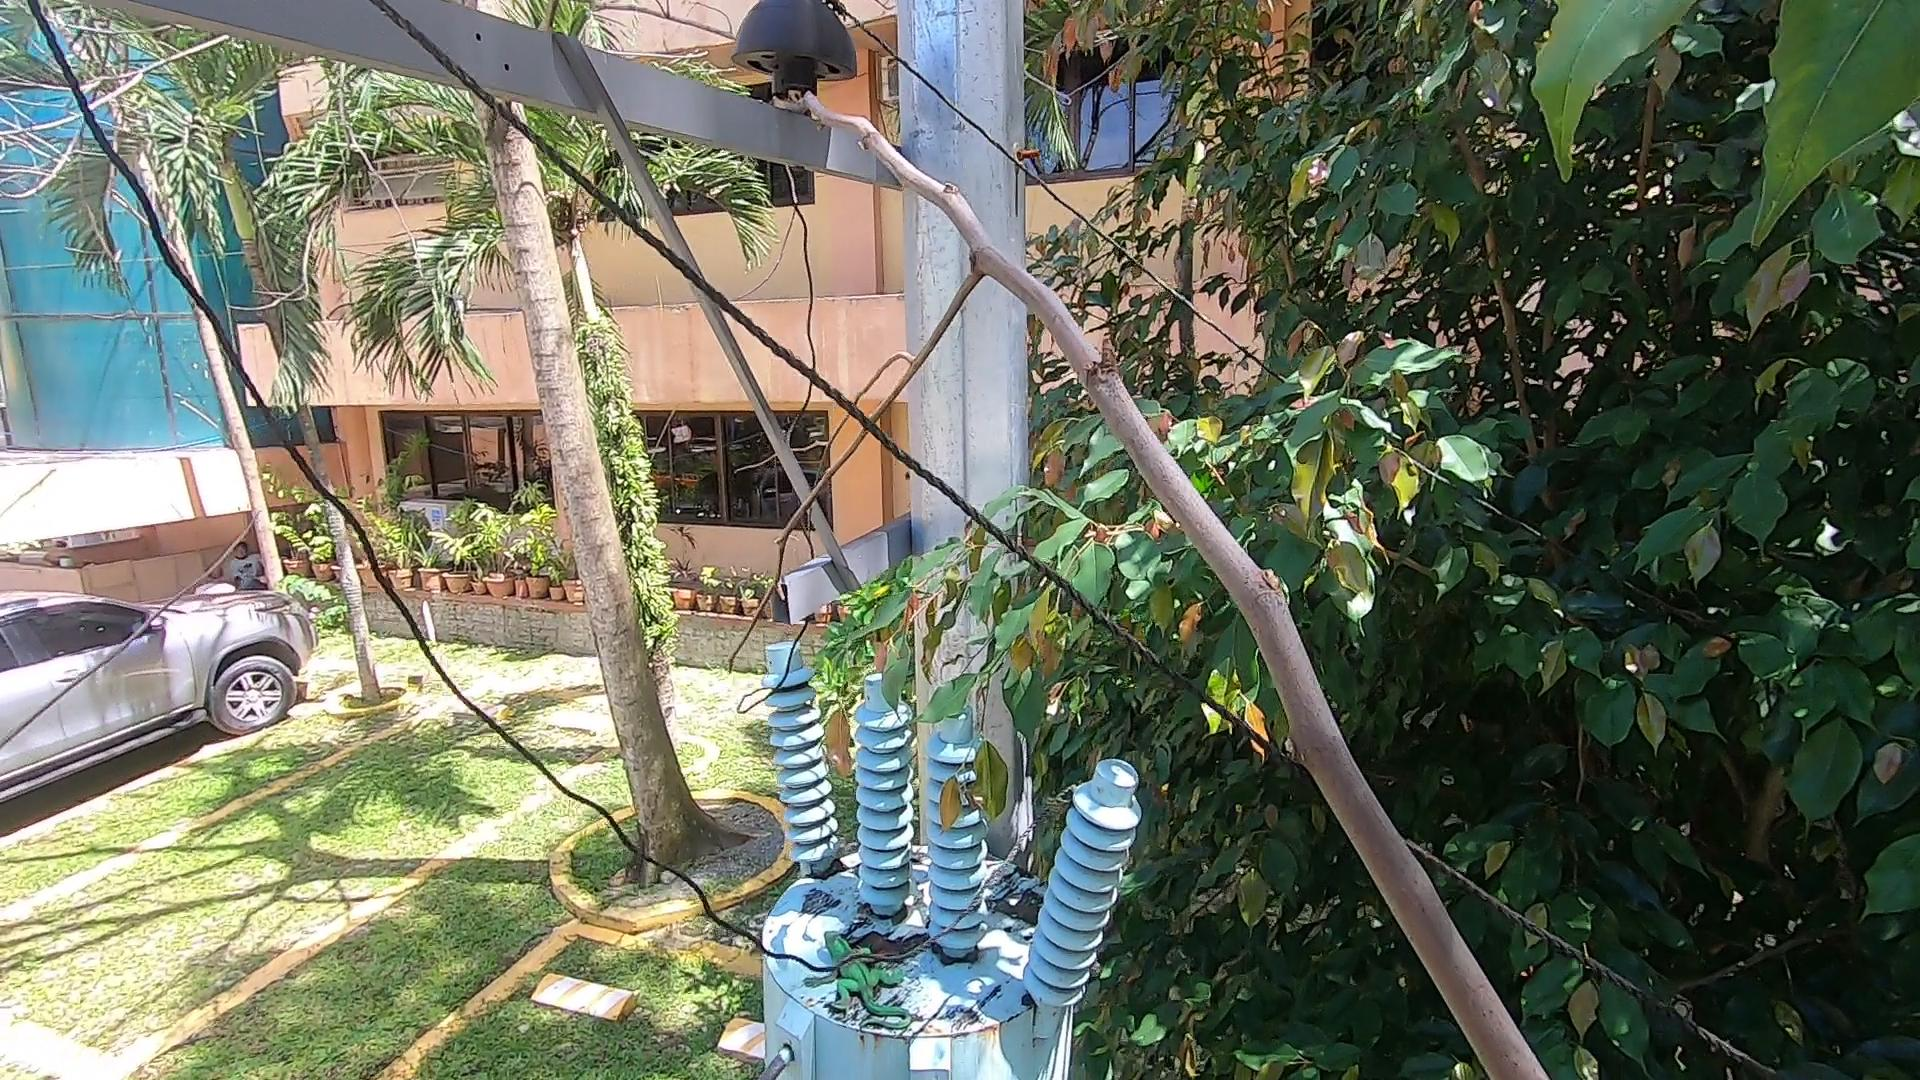branch with leaves: (808, 518, 1072, 820)
leaf: (855, 913, 938, 965), (992, 886, 1040, 942), (808, 861, 855, 893)
tree branch: (762, 41, 1572, 1080)
